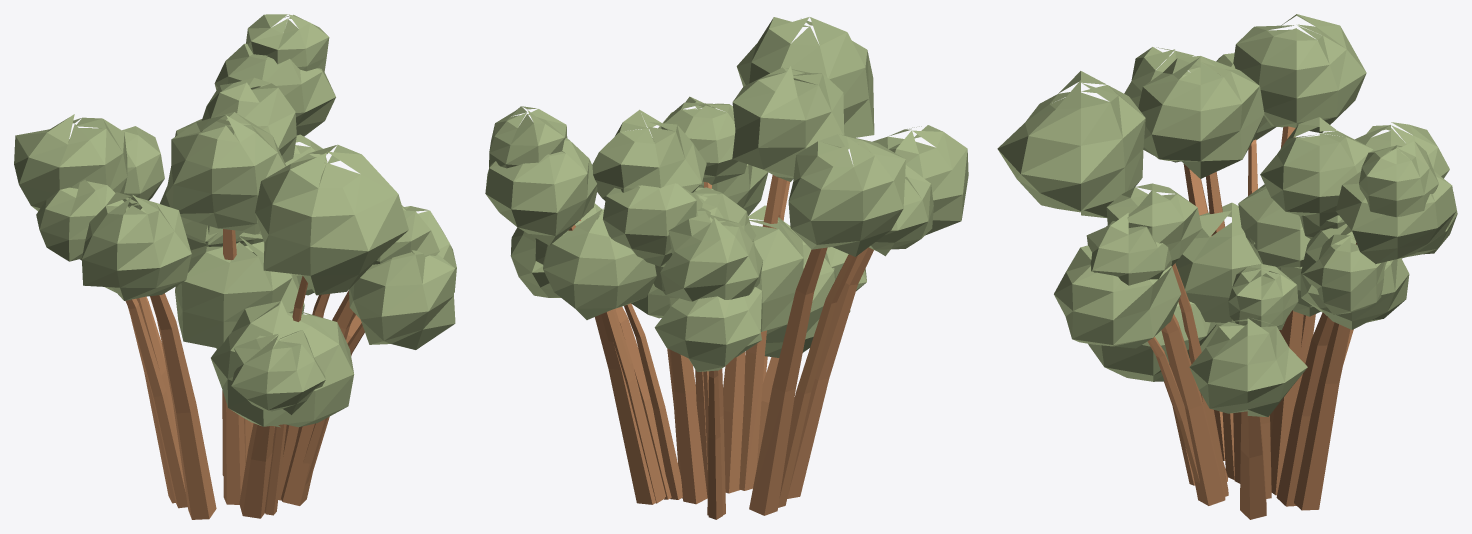
File: dogwood-red-stemmed-3dassets-cc0.glb
The picture shows the model from 3 angles, left to right: view 1: azimuth 30°, elevation 25°; view 2: azimuth 150°, elevation 25°; view 3: azimuth 270°, elevation 25°; orthographic projection.
Visible parts, largest first — view 1: dogwood-thicket; view 2: dogwood-thicket; view 3: dogwood-thicket.
Boxes of the visible parts, left/top/right/bottom form: dogwood-thicket: left=14, top=14, right=456, bottom=519; dogwood-thicket: left=485, top=17, right=968, bottom=519; dogwood-thicket: left=997, top=14, right=1457, bottom=519.
Bounding box in the file's own units: 2.82 × 2.69 × 2.73.
